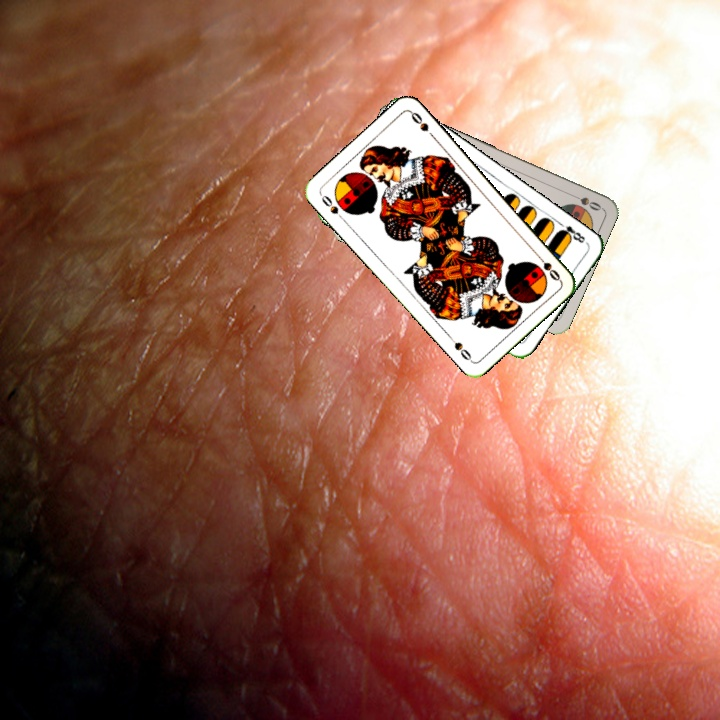E8: (554, 218, 588, 246)
SO: (532, 249, 563, 284), (316, 190, 347, 224), (565, 189, 604, 213)
